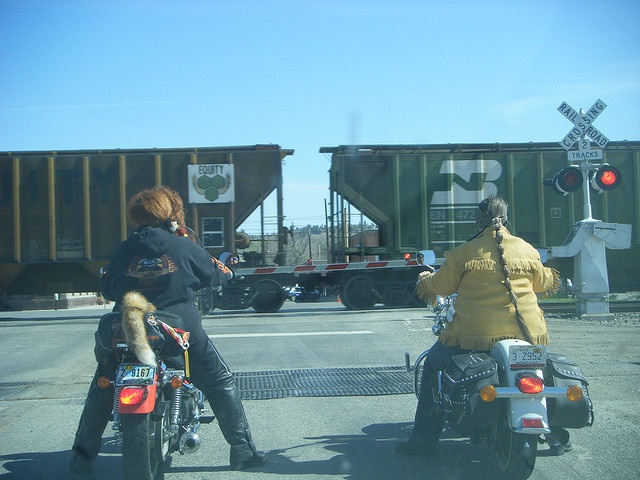non-vehicle: (404, 248, 584, 480), (100, 225, 245, 479)
